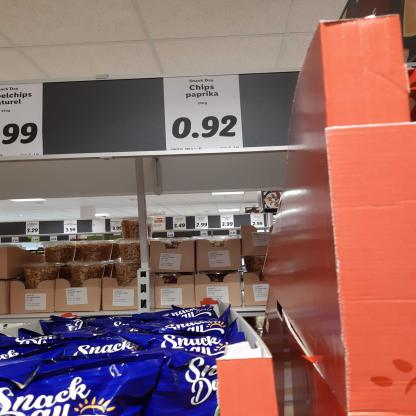prtg: (164, 75, 244, 152), (1, 84, 44, 157)
